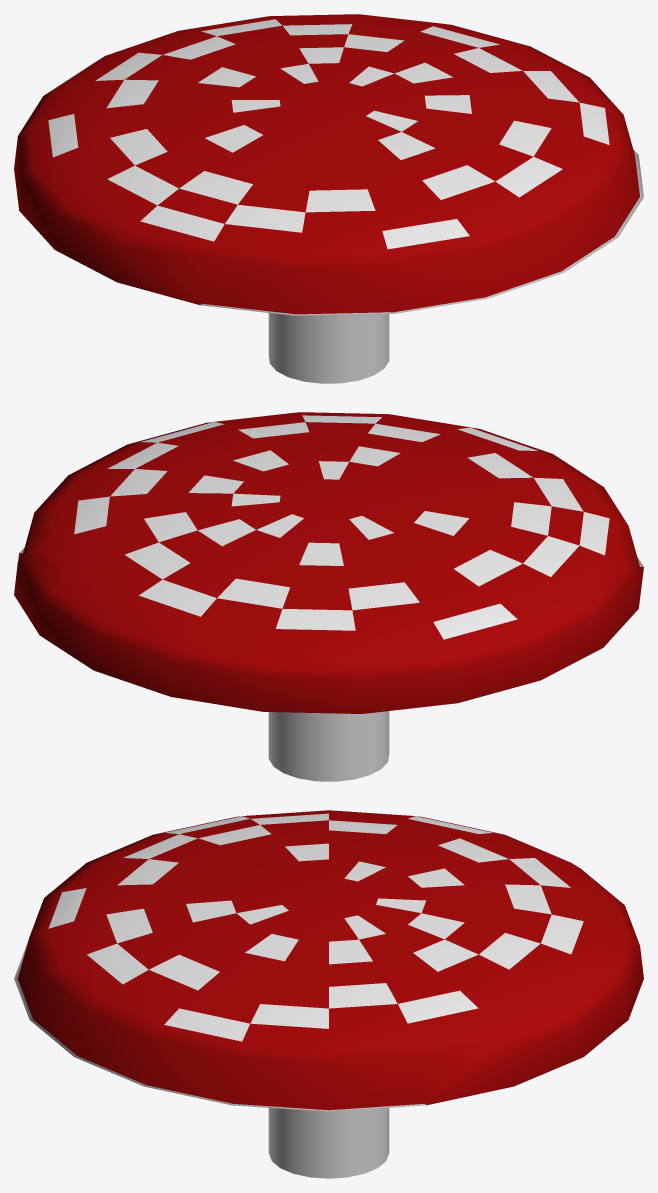
Rendered from BIGassMUSHROOM.fbx.
The picture shows the model from 3 angles, top to bottom: view 1: azimuth 30°, elevation 25°; view 2: azimuth 150°, elevation 25°; view 3: azimuth 270°, elevation 25°; orthographic projection.
Visible parts, largest first — view 1: pSphere1, pCylinder1; view 2: pSphere1, pCylinder1; view 3: pSphere1, pCylinder1.
Part boxes in pixels (x1,y1,x2,y2): pSphere1: (14,14,643,315); pCylinder1: (268,313,389,383); pSphere1: (14,412,643,713); pCylinder1: (268,711,389,781); pSphere1: (14,810,643,1111); pCylinder1: (268,1108,389,1178).
Bounding box in the file's own units: 623 × 279 × 623.
